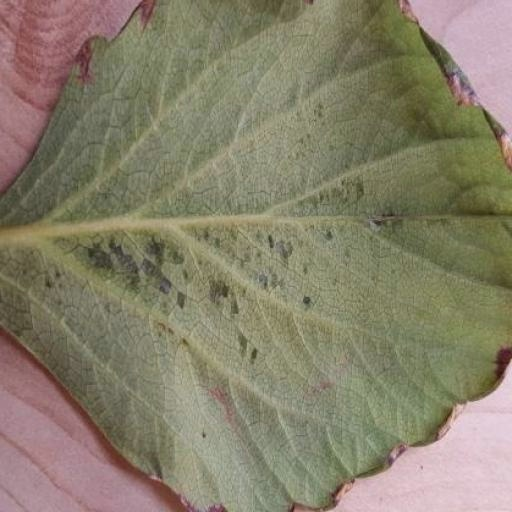Angular Leafspot: (85, 135, 477, 421)
